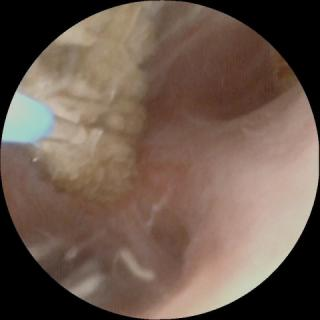fiber: (3, 94, 52, 141)
stone: (22, 4, 157, 201)
tissue: (4, 3, 315, 312)
